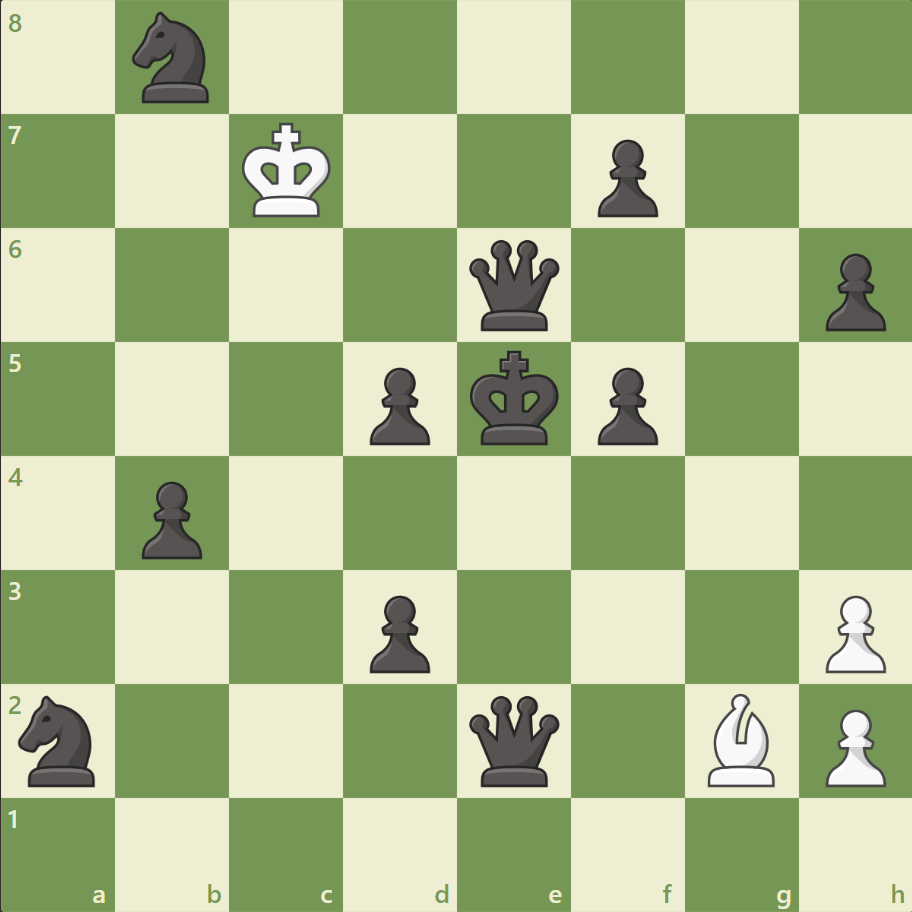B: (698, 687, 782, 790)
K: (238, 117, 338, 225)
P: (815, 586, 889, 677), (815, 700, 889, 791)
k: (465, 344, 565, 452)
n: (124, 7, 222, 110), (11, 688, 108, 791)
p: (133, 473, 208, 564), (588, 132, 662, 223), (815, 246, 889, 337), (361, 359, 435, 450), (588, 359, 662, 450), (361, 586, 435, 677)
q: (464, 236, 563, 335), (464, 690, 563, 789)
